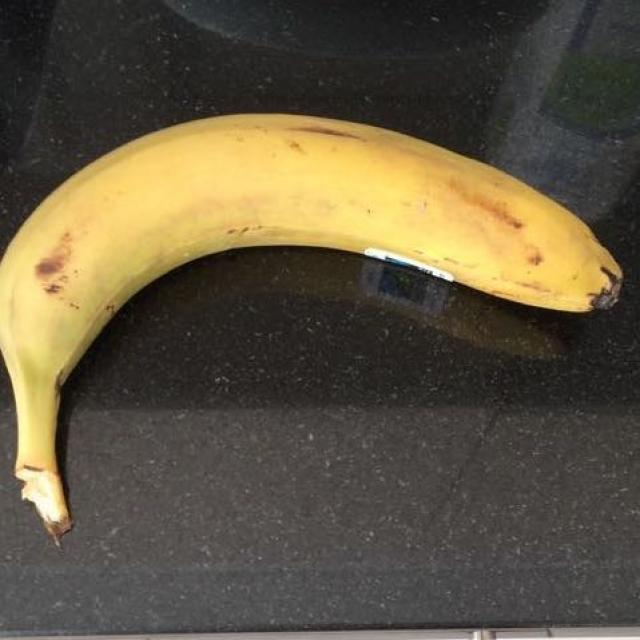banana: (11, 116, 615, 492)
